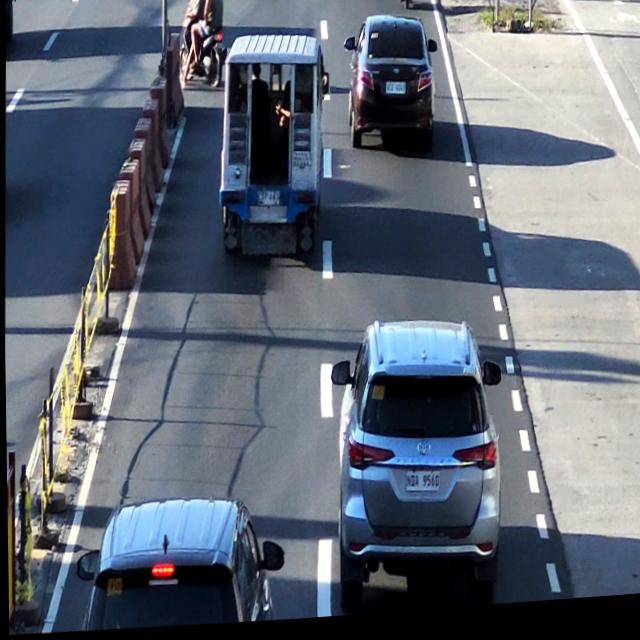Car: (334, 322, 503, 601), (80, 496, 275, 635), (348, 18, 436, 152)
Jeep: (218, 31, 320, 265)
License-Plate: (403, 472, 441, 500), (254, 192, 281, 214), (384, 87, 406, 104)
Motorcycle: (179, 0, 224, 85), (395, 0, 419, 12)
